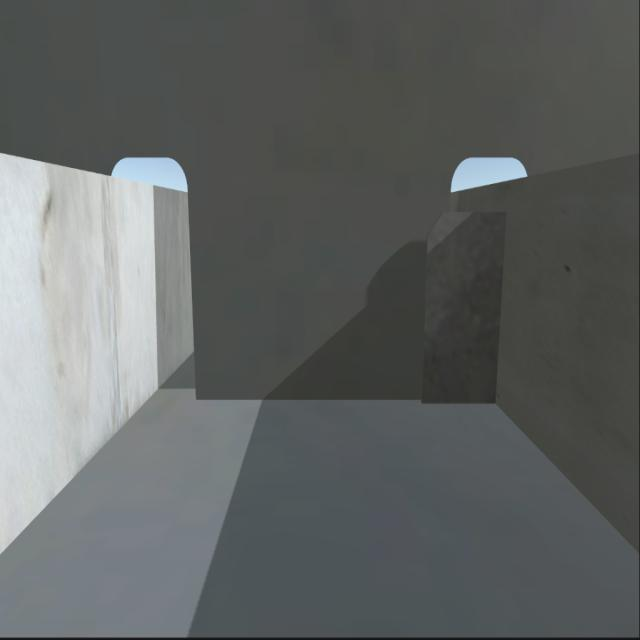fillet_yong_jeop_jang: (195, 390, 501, 404)
longi_yong_jeop_jang: (491, 209, 513, 402)
plate_CP03: (420, 209, 500, 401)
